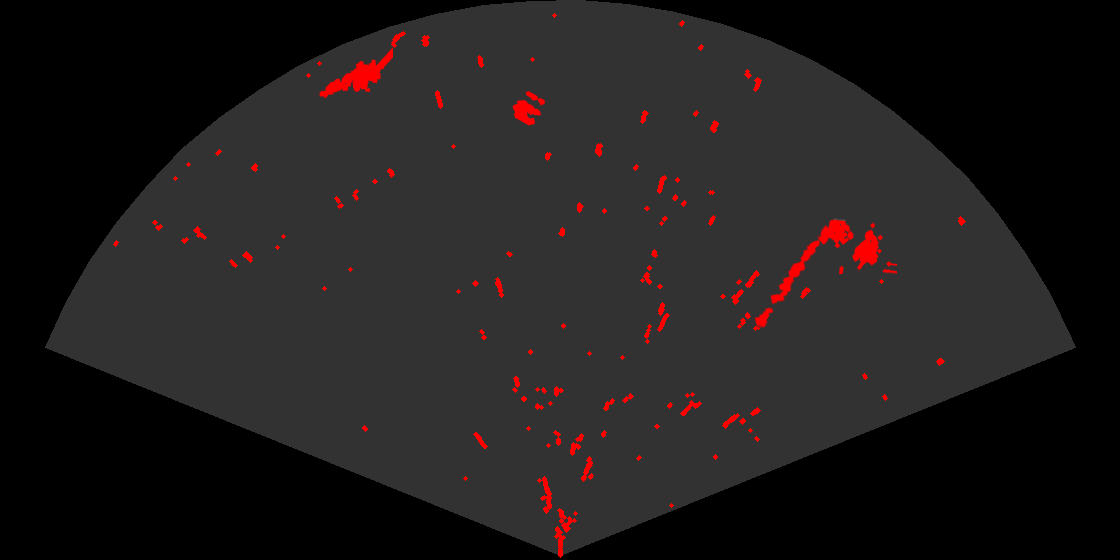ball: (511, 89, 547, 127)
cage: (817, 218, 897, 274)
chain: (753, 229, 832, 329)
frogman: (318, 46, 393, 99)
